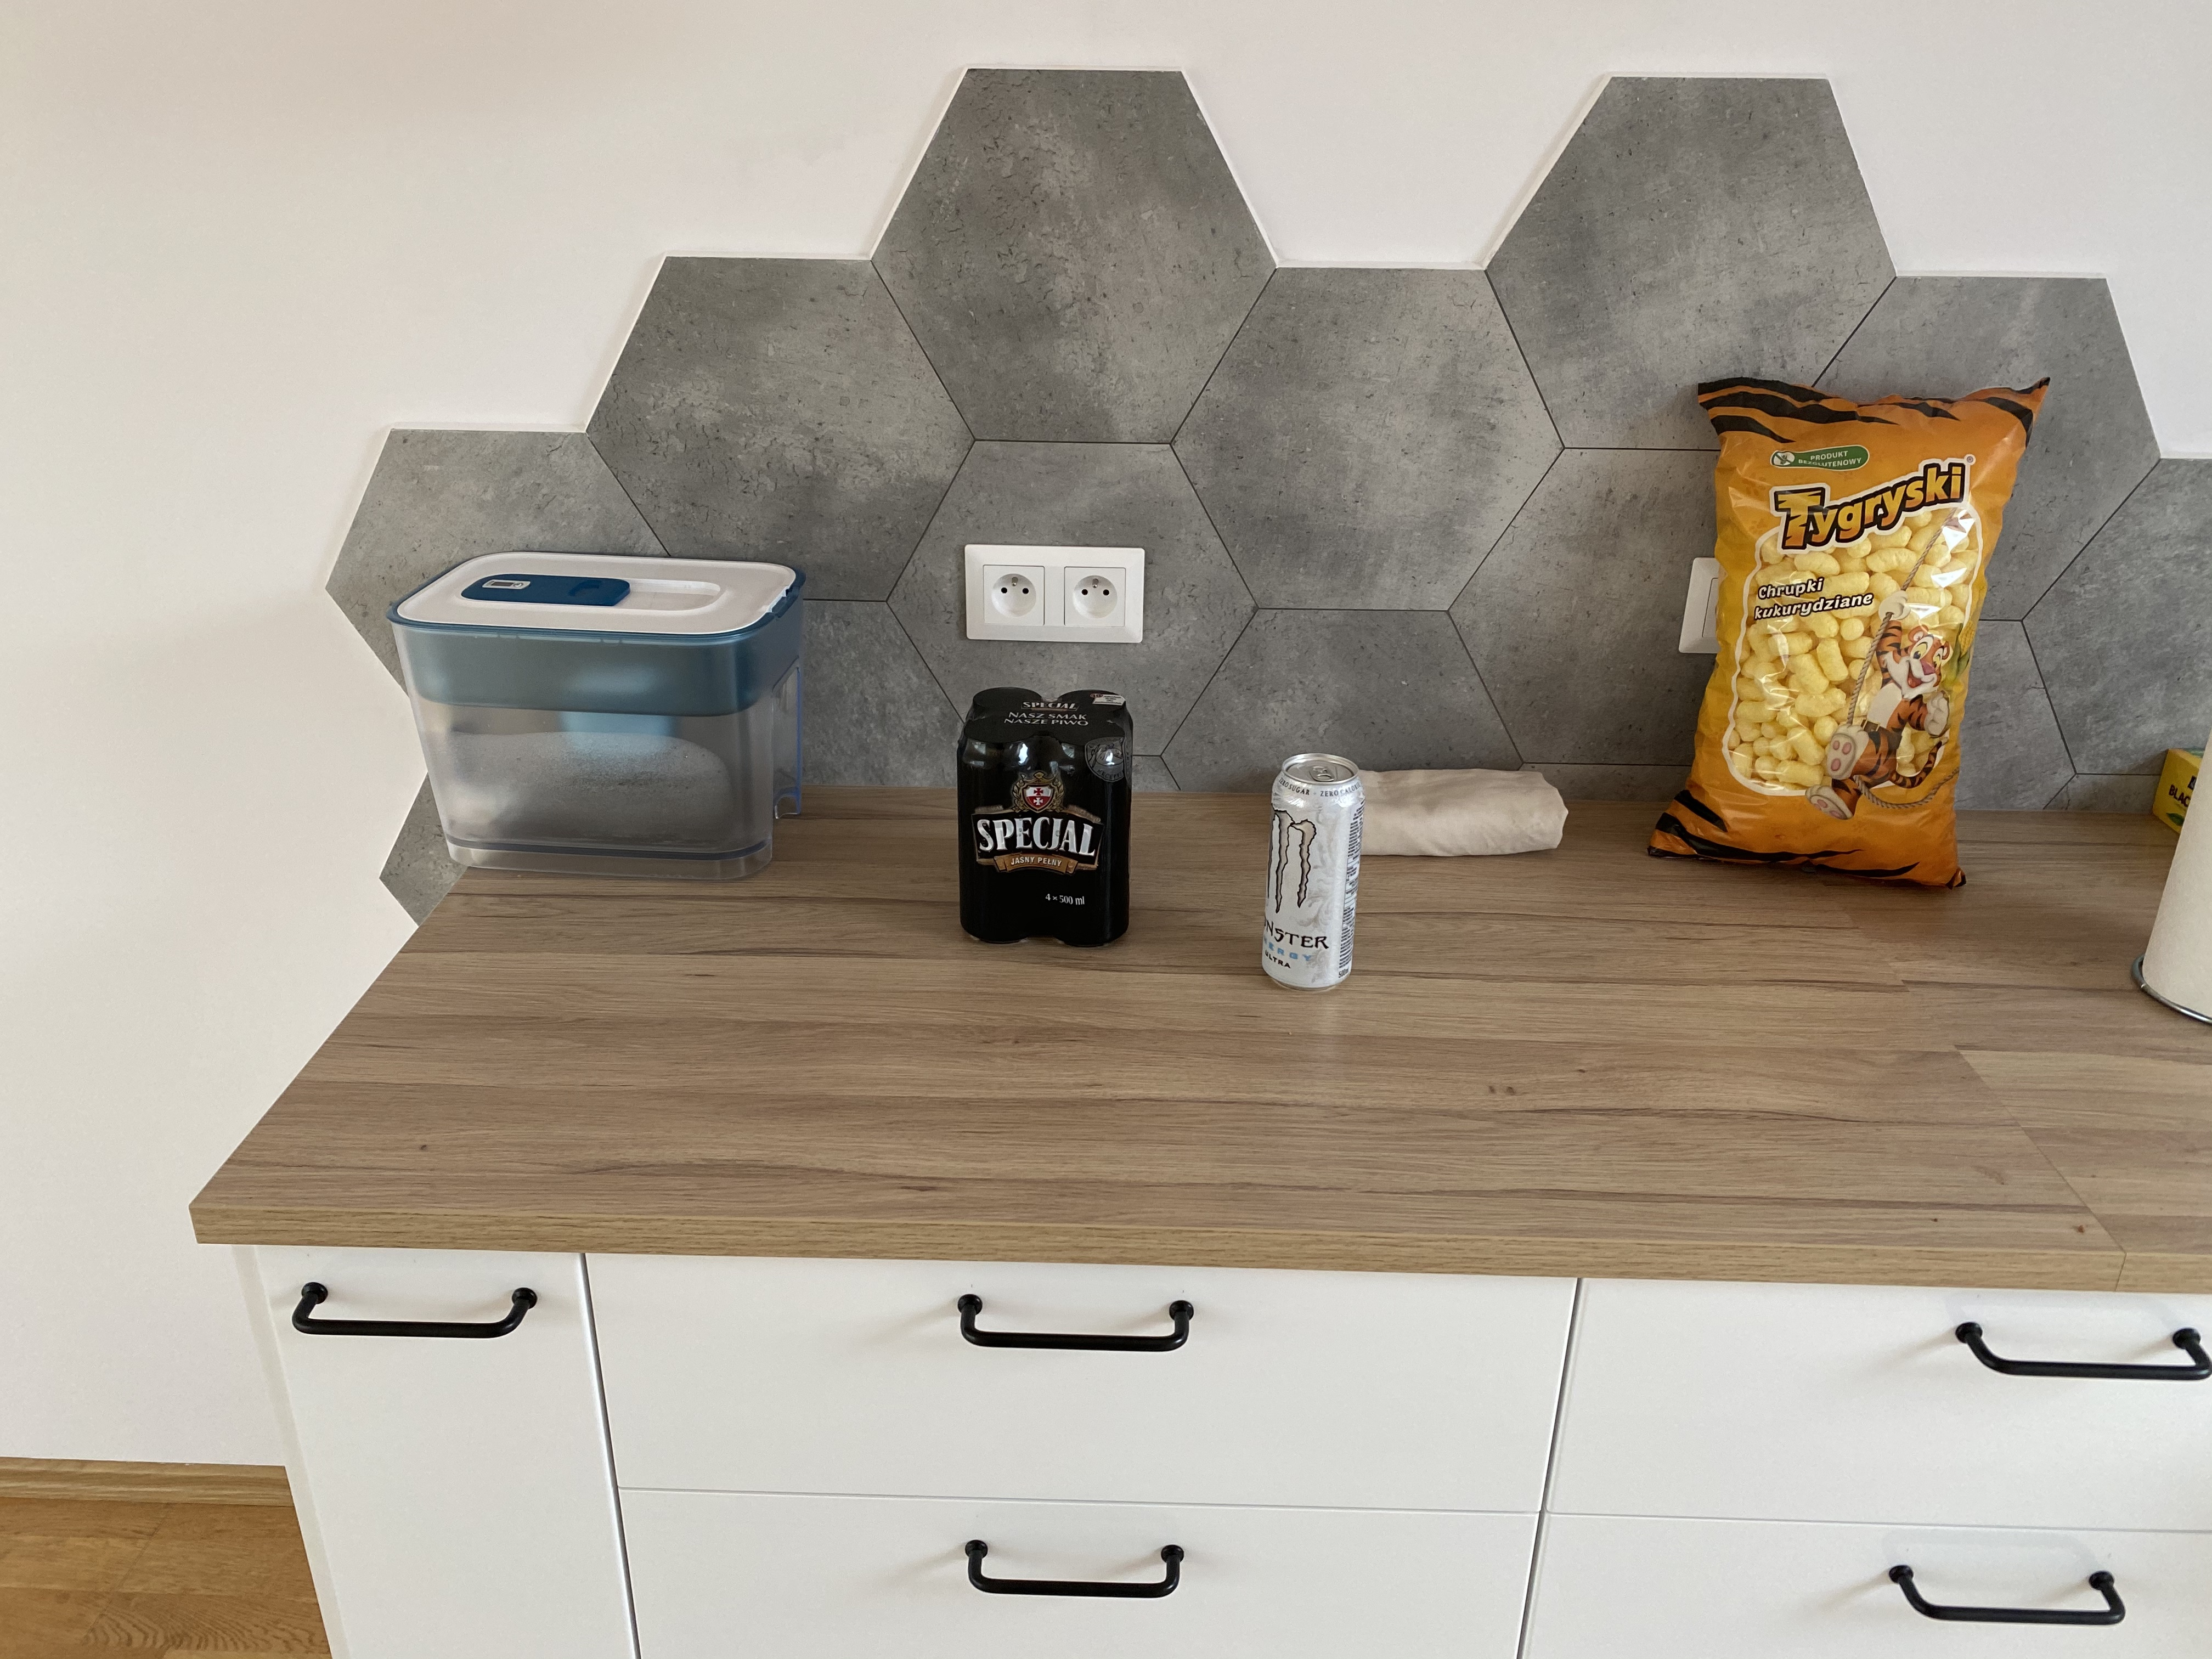specjal: (958, 688, 1136, 953)
